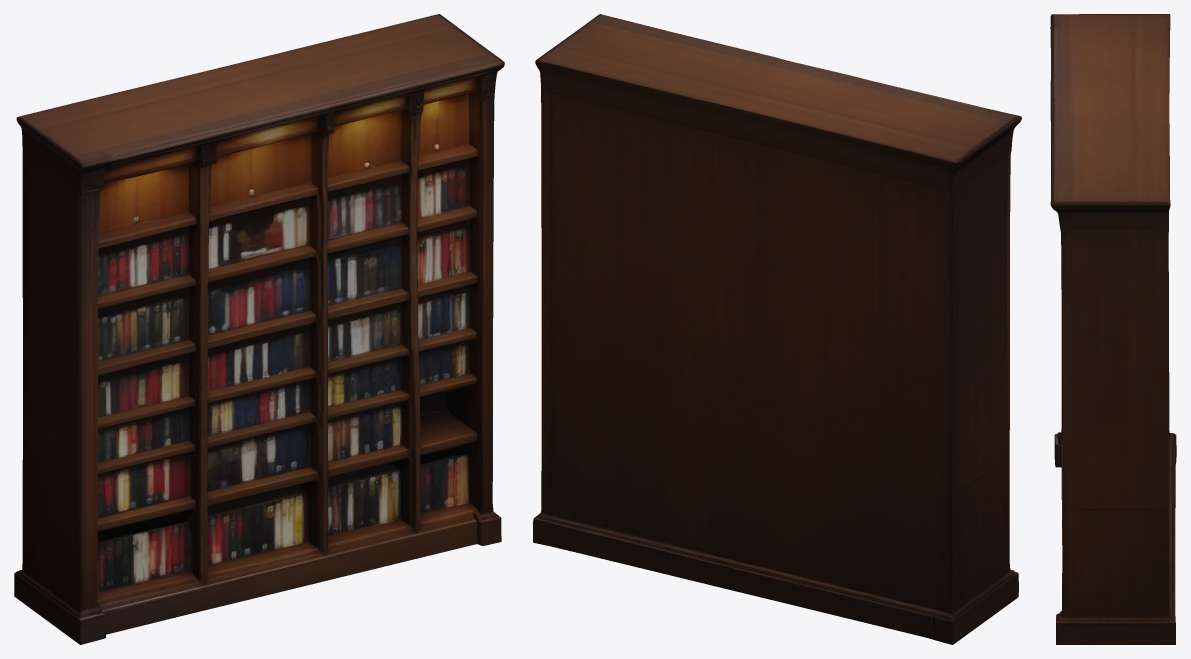
3 renders of one model, left to right at view 1: azimuth 30°, elevation 25°; view 2: azimuth 150°, elevation 25°; view 3: azimuth 270°, elevation 25°, orthographic. The views are drawn at different scales.
Visible parts, largest first — view 1: geometry_0; view 2: geometry_0; view 3: geometry_0.
Part boxes in pixels (left/top/right/bottom): geometry_0: left=14, top=14, right=504, bottom=644; geometry_0: left=533, top=14, right=1021, bottom=644; geometry_0: left=1050, top=14, right=1176, bottom=644.
Size of the model in its own units: 0.9186 by 1 by 0.2581.
Materials: 1 (1 with a texture image).
